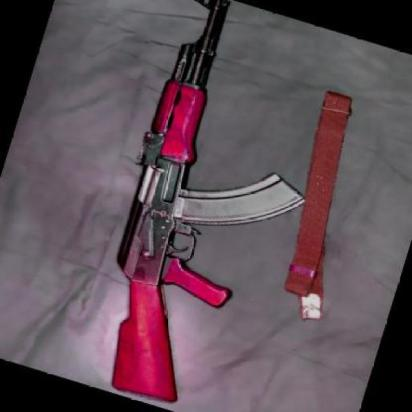Gun: (44, 0, 328, 412)
